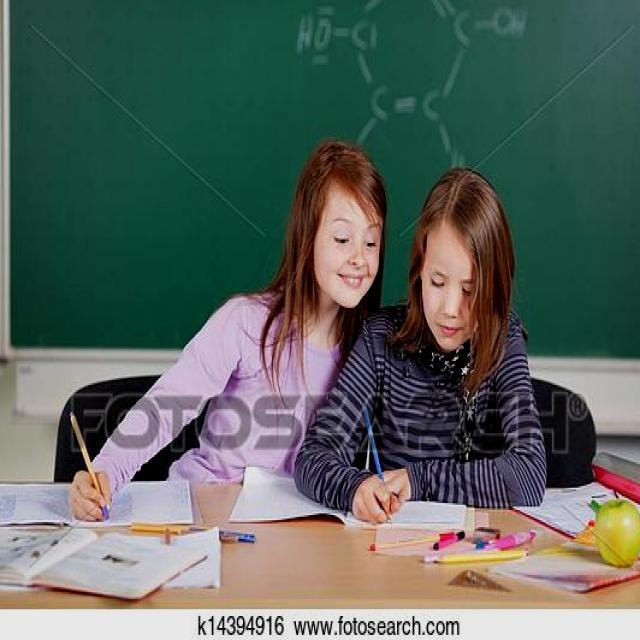cheating: (0, 135, 397, 606)
good: (389, 150, 552, 518)
